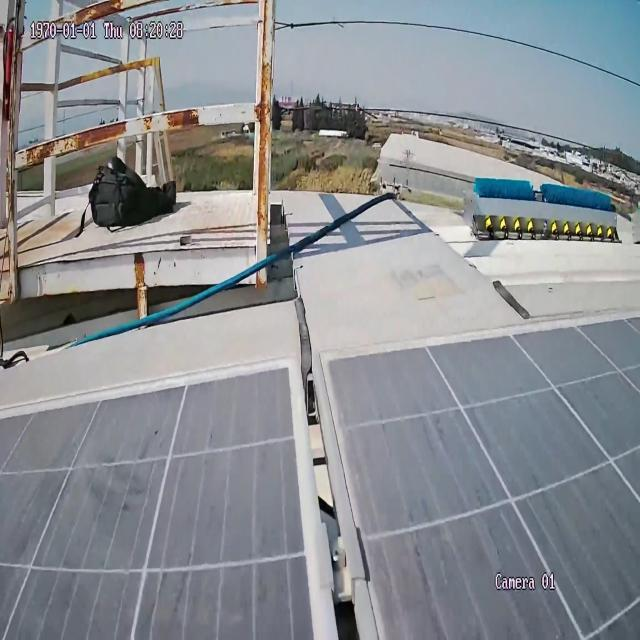interior panel: (291, 376, 387, 632)
outher panel: (0, 229, 627, 411)
